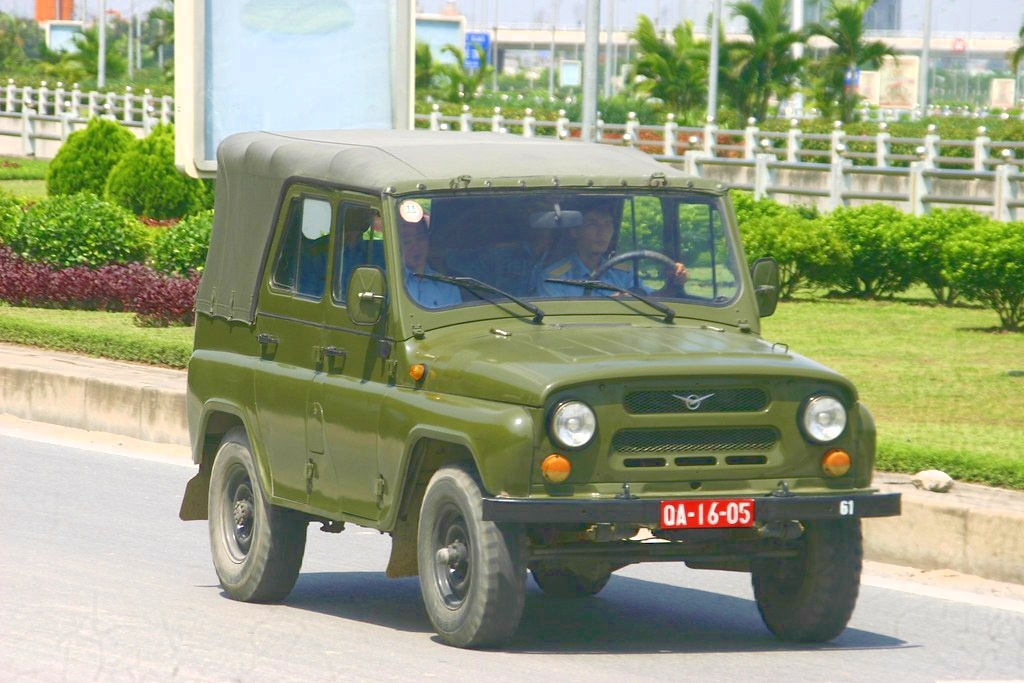plate: (660, 496, 758, 529)
